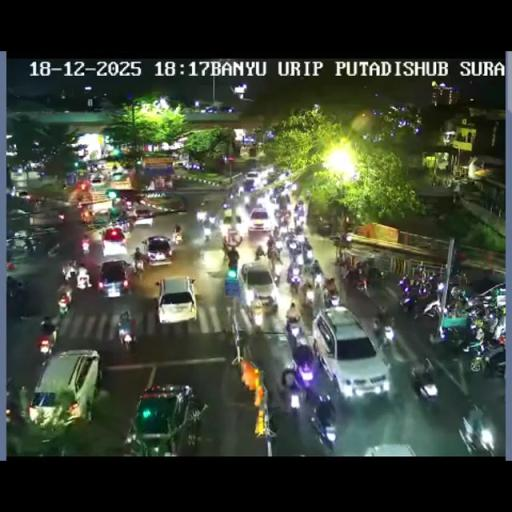Car: (314, 307, 390, 399), (28, 349, 102, 430), (124, 382, 206, 454), (238, 260, 278, 312), (155, 276, 197, 325), (98, 259, 132, 297), (142, 235, 174, 266), (102, 227, 128, 257), (363, 442, 417, 456), (248, 207, 272, 234), (91, 208, 111, 228), (132, 208, 154, 226), (242, 172, 258, 190), (221, 206, 233, 227), (171, 158, 189, 167), (111, 170, 124, 180), (90, 175, 104, 184), (18, 190, 28, 200)
Motorcycle: (276, 196, 323, 302), (457, 403, 497, 454), (465, 332, 504, 374), (308, 403, 337, 452), (422, 286, 462, 321), (438, 318, 474, 353), (410, 358, 438, 402), (5, 377, 25, 425), (292, 342, 315, 382), (464, 298, 494, 324), (284, 378, 306, 410), (398, 281, 420, 312), (117, 318, 137, 352), (38, 320, 58, 354), (374, 321, 393, 350), (285, 318, 304, 347), (490, 310, 506, 342), (366, 266, 386, 290), (322, 281, 340, 307), (309, 261, 324, 289), (24, 234, 45, 254), (286, 262, 302, 288), (415, 276, 433, 299), (6, 276, 24, 299), (353, 269, 369, 293), (450, 270, 468, 290), (286, 234, 302, 256), (131, 255, 146, 277), (302, 283, 316, 306), (226, 226, 242, 246), (56, 294, 70, 316), (315, 217, 332, 235), (76, 270, 91, 290), (286, 301, 300, 322), (120, 217, 135, 235), (338, 258, 350, 280), (271, 258, 283, 280), (196, 203, 209, 223), (46, 242, 62, 258), (64, 264, 78, 282), (227, 247, 239, 268), (79, 206, 93, 224), (339, 231, 352, 248), (302, 244, 314, 262), (171, 228, 183, 245), (294, 202, 305, 220), (197, 242, 206, 263), (277, 193, 288, 210), (202, 223, 212, 241), (222, 239, 230, 261), (281, 210, 291, 227), (32, 197, 44, 211), (81, 237, 90, 255), (273, 236, 283, 251), (254, 249, 266, 261), (6, 246, 14, 264), (242, 192, 252, 206), (207, 212, 218, 224), (266, 238, 274, 254), (294, 223, 303, 236), (272, 225, 280, 239), (227, 190, 235, 204), (124, 200, 133, 211), (57, 210, 65, 222), (238, 185, 244, 194), (38, 171, 43, 181), (61, 182, 66, 190)
